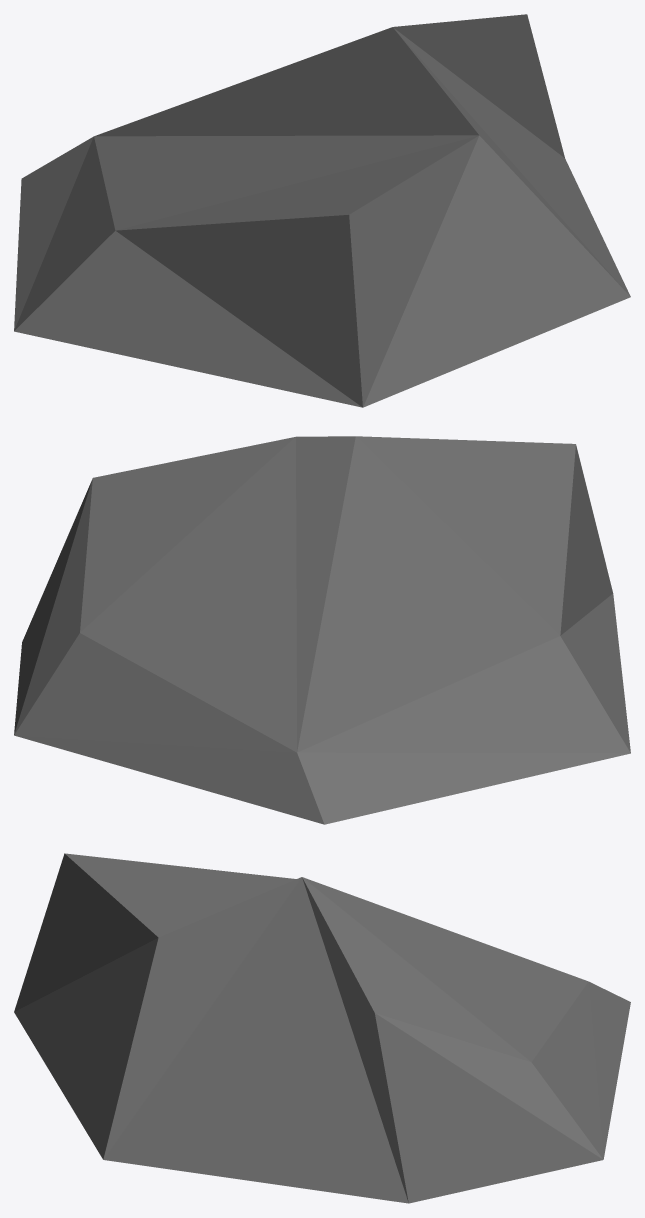
Rendered from Stone_A_19.FBX.
3 views of the same model, one above another, from view 1: azimuth 30°, elevation 25°; view 2: azimuth 150°, elevation 25°; view 3: azimuth 270°, elevation 25° (orthographic). The views are drawn at different scales.
Visible parts, largest first — view 1: Stone_A_19; view 2: Stone_A_19; view 3: Stone_A_19.
Part boxes in pixels (x1,y1,x2,y2): Stone_A_19: [14, 14, 630, 407]; Stone_A_19: [14, 436, 630, 824]; Stone_A_19: [14, 853, 630, 1203].
Bounding box in the file's own units: 0.8354 × 0.3077 × 0.7841.
